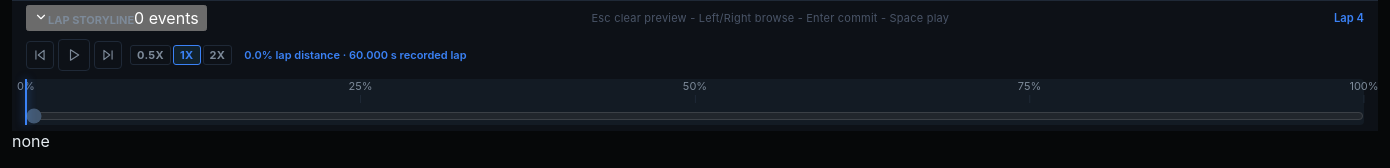
Test: full-lap playback scrubber › synchronizes physical lap position even when no event anchors exist
Step 1. Set the slider named "Scrub continuously through the selected lap by physical track position" to "42.5" → (596,116), box left=26, top=107, right=1364, bottom=125
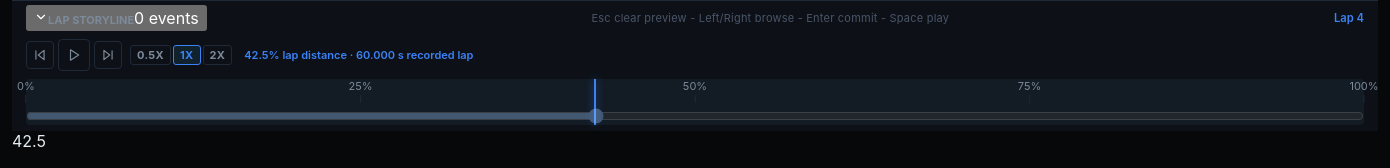
Check: the button named "Start playback" is enabled, box left=58, top=39, right=90, bottom=71
Check: the text with test id "hover-position" reads "42.5", box left=12, top=131, right=46, bottom=151
